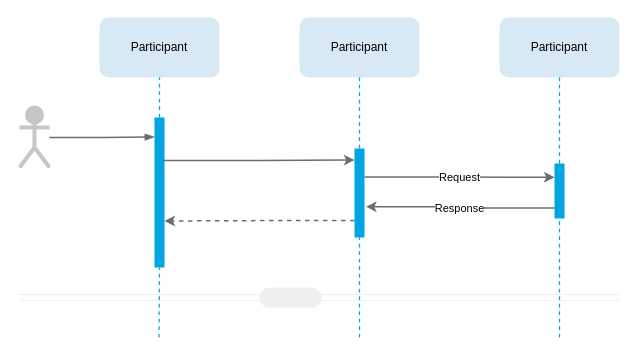
The diagram is 638 pixels wide and 356 high, and some of its shapes have lost their labels. The shapes that lost their labels are listed below. From the top down, each one's centre as x and y in pixels, then its label:
At pixel 34 137: "Actor".
At pixel 290 297: "Separator".
